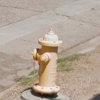Hydrant: (23, 24, 71, 100)
